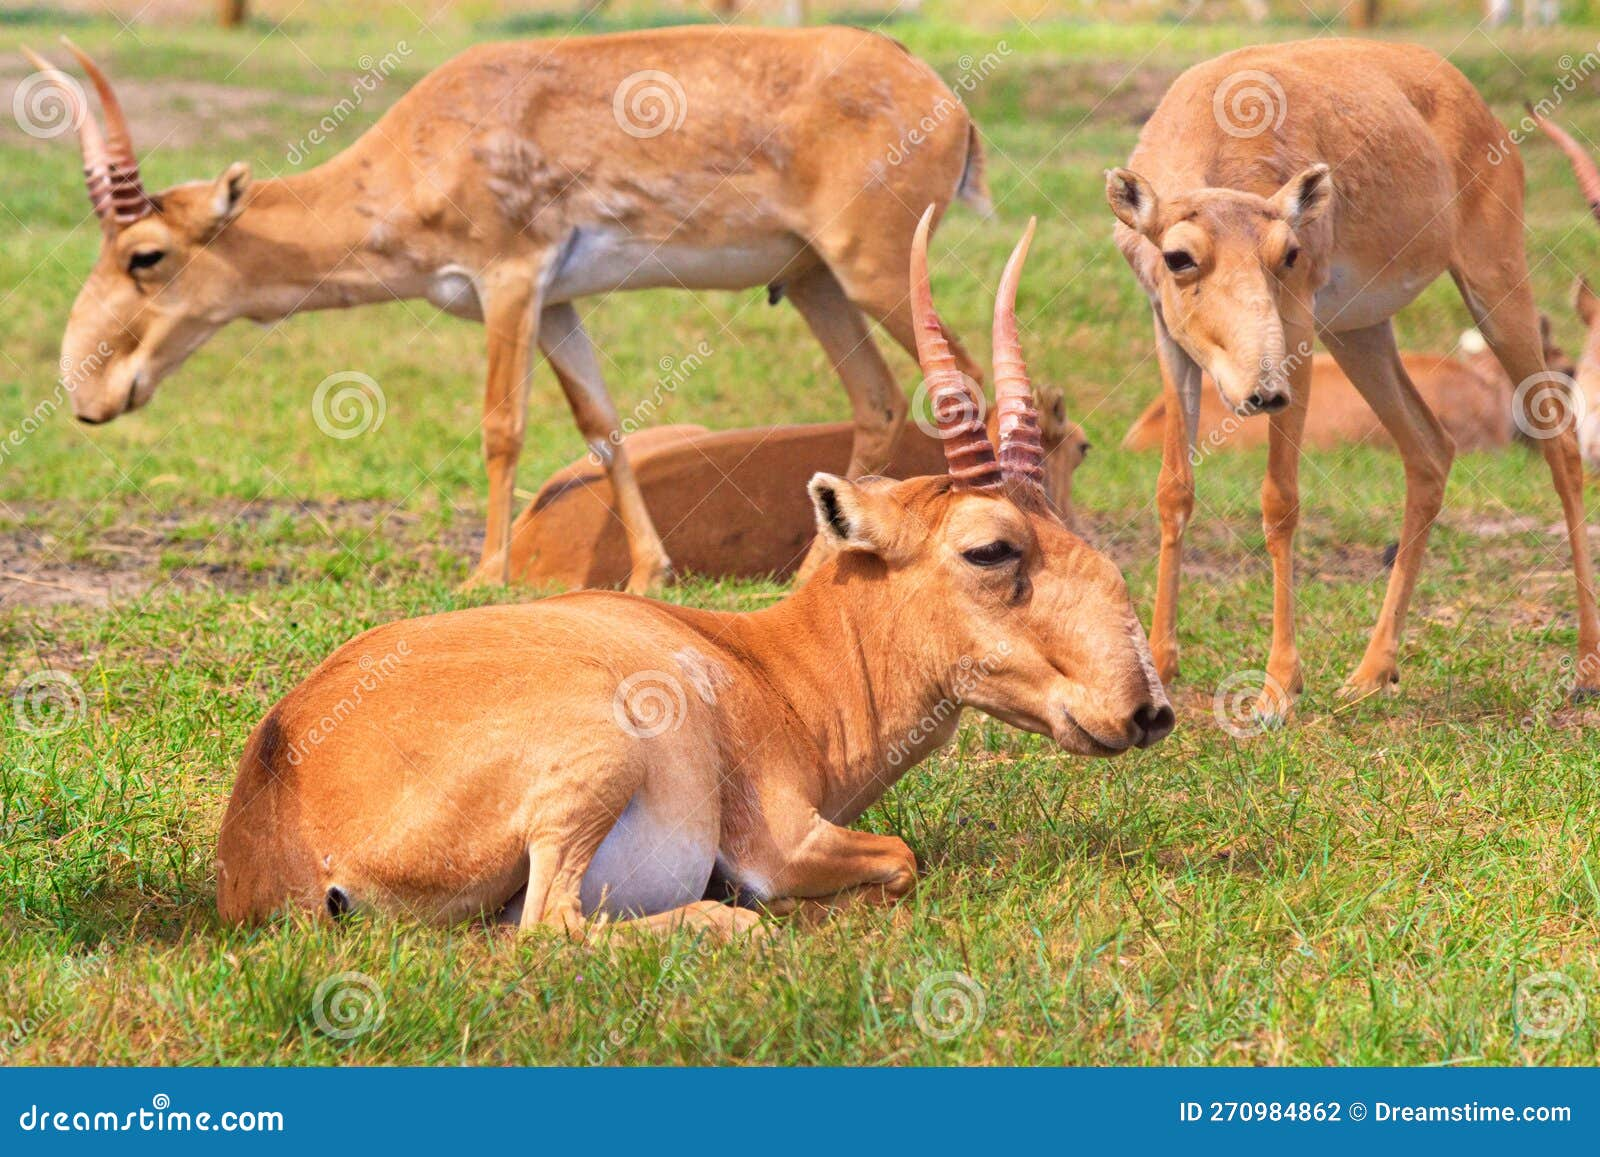saiga: (144, 194, 1176, 951), (5, 24, 1024, 575), (1094, 29, 1600, 734)
